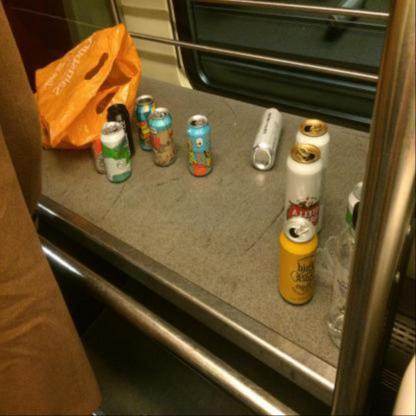Bottle cap: (328, 201, 360, 348)
Can: (296, 119, 330, 232), (284, 144, 324, 233), (278, 217, 318, 304), (250, 109, 282, 172), (100, 122, 132, 182), (148, 108, 176, 166), (186, 114, 212, 176), (107, 104, 136, 158), (135, 95, 157, 150), (344, 181, 362, 227), (90, 139, 106, 173)
Plastic bag - wrapper: (34, 24, 142, 150)
Pop tab: (295, 222, 309, 236), (298, 146, 310, 157), (310, 124, 322, 131), (106, 124, 115, 132), (154, 111, 162, 117), (99, 159, 105, 167), (195, 119, 204, 124)
